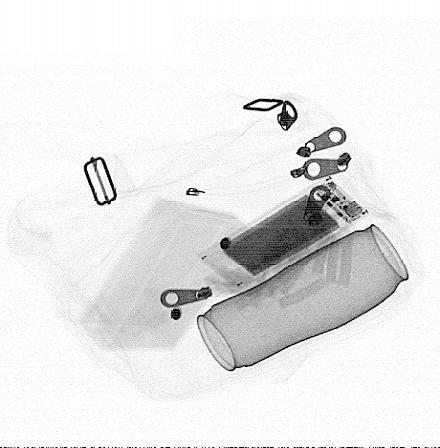Powerbank: (199, 174, 372, 290)
